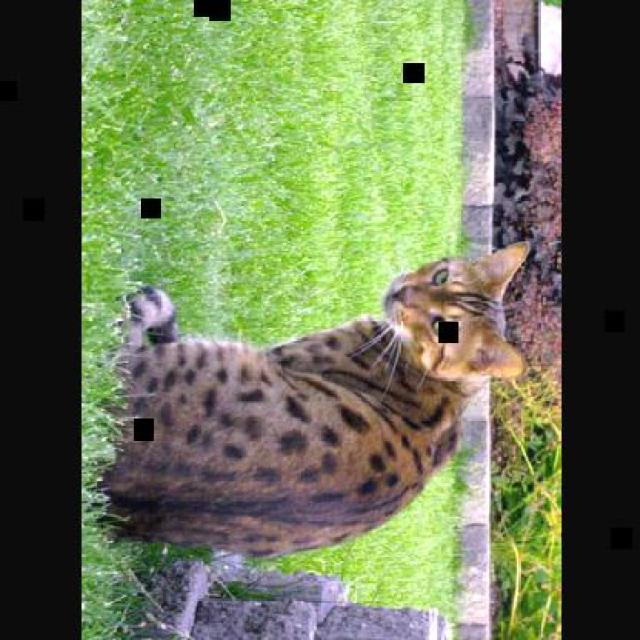unauthorized: (95, 238, 531, 560)
